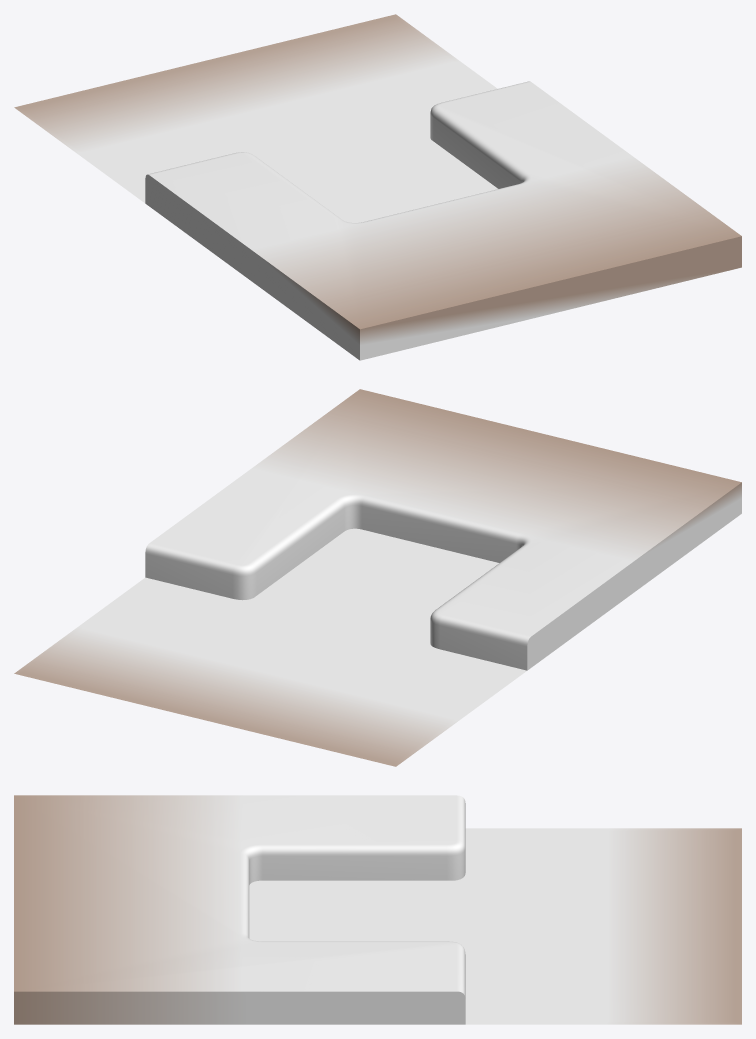
The model's file is BigBase_BlendShape.fbx.
3 renders of one model, top to bottom at view 1: azimuth 30°, elevation 25°; view 2: azimuth 150°, elevation 25°; view 3: azimuth 270°, elevation 25°, orthographic. The views are drawn at different scales.
Parts seen in each view (by area): view 1: BigBase; view 2: BigBase; view 3: BigBase.
Part boxes in pixels (x1,y1,x2,y2): BigBase: (14, 14, 741, 360); BigBase: (14, 389, 741, 766); BigBase: (14, 795, 741, 1024).
Size of the model in its own units: 1860 by 146 by 2918.
2 materials, 2 textured.
